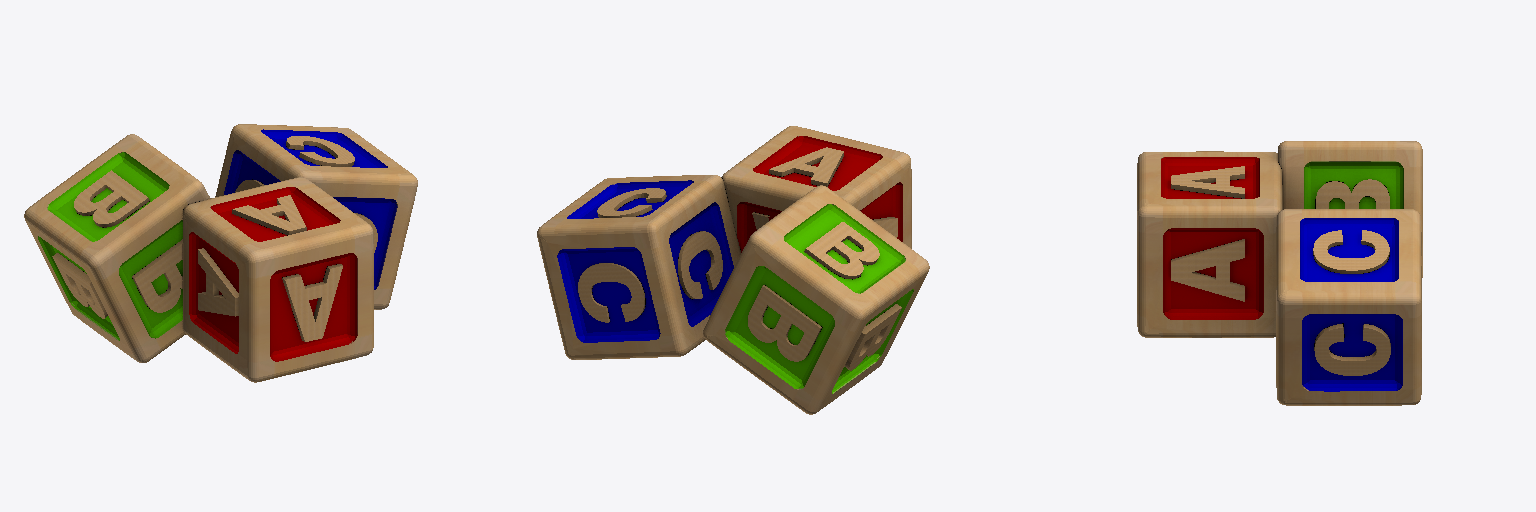
3 views of the same model, side by side, from view 1: azimuth 30°, elevation 25°; view 2: azimuth 150°, elevation 25°; view 3: azimuth 270°, elevation 25° (orthographic).
Visible parts, largest first — view 1: blocks; view 2: blocks; view 3: blocks.
Part boxes in pixels (bbox=[...]): blocks: bbox=[24, 124, 417, 382]; blocks: bbox=[537, 126, 929, 414]; blocks: bbox=[1137, 141, 1422, 405].
Size of the model in its own units: 51.96 by 26.16 by 39.21.
Materials: 1 (1 with a texture image).